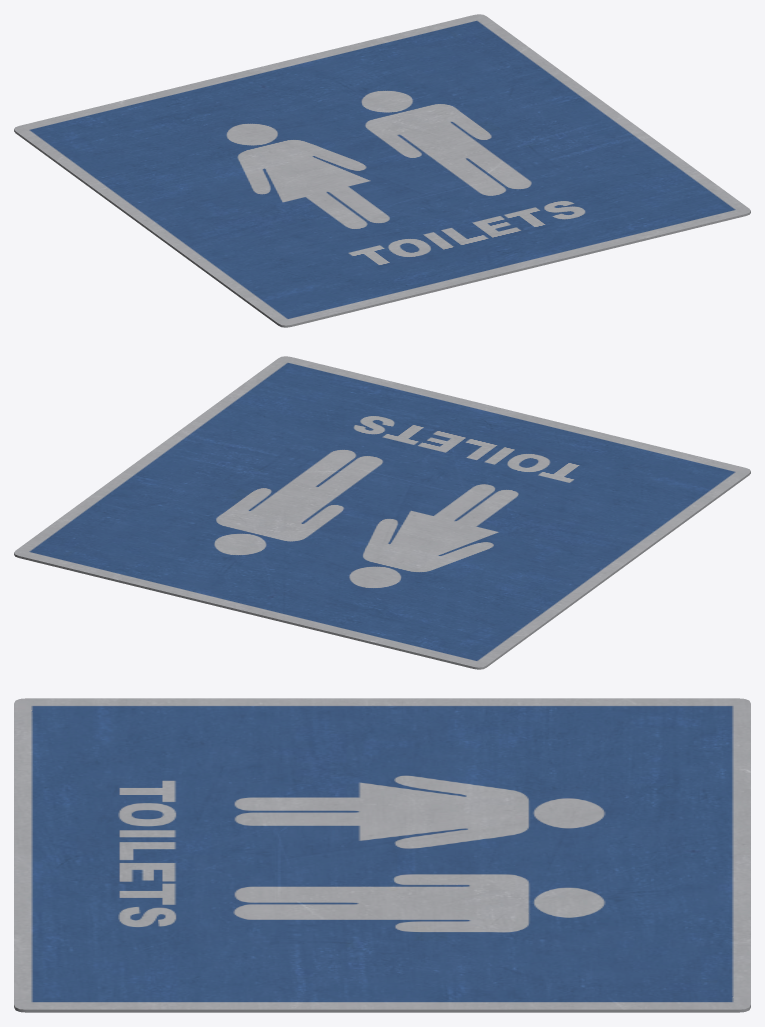
The model's file is Toilets_Sign.FBX.
3 renders of one model, top to bottom at view 1: azimuth 30°, elevation 25°; view 2: azimuth 150°, elevation 25°; view 3: azimuth 270°, elevation 25°, orthographic. The views are drawn at different scales.
Parts seen in each view (by area): view 1: Box053; view 2: Box053; view 3: Box053.
Part boxes in pixels (box(x1,y1,x2,y2)): Box053: box(14, 14, 750, 327); Box053: box(14, 356, 750, 669); Box053: box(14, 698, 750, 1012).
Bounding box in the file's own units: 197 × 0.8444 × 197.
